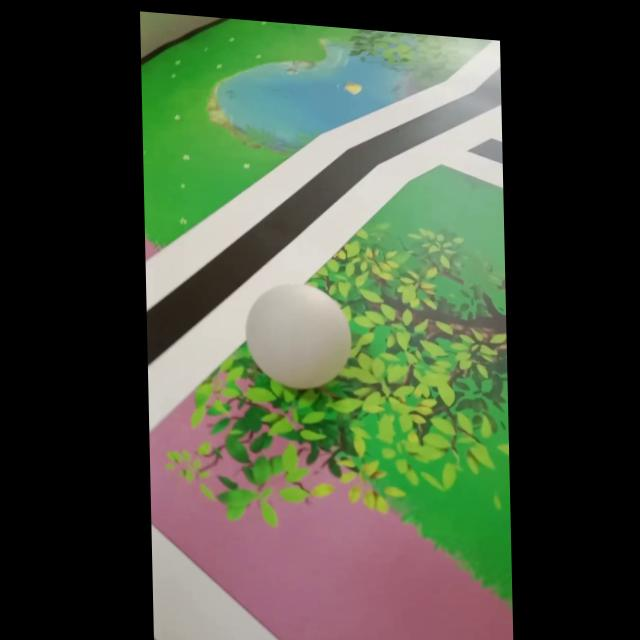white ball: (243, 278, 353, 394)
